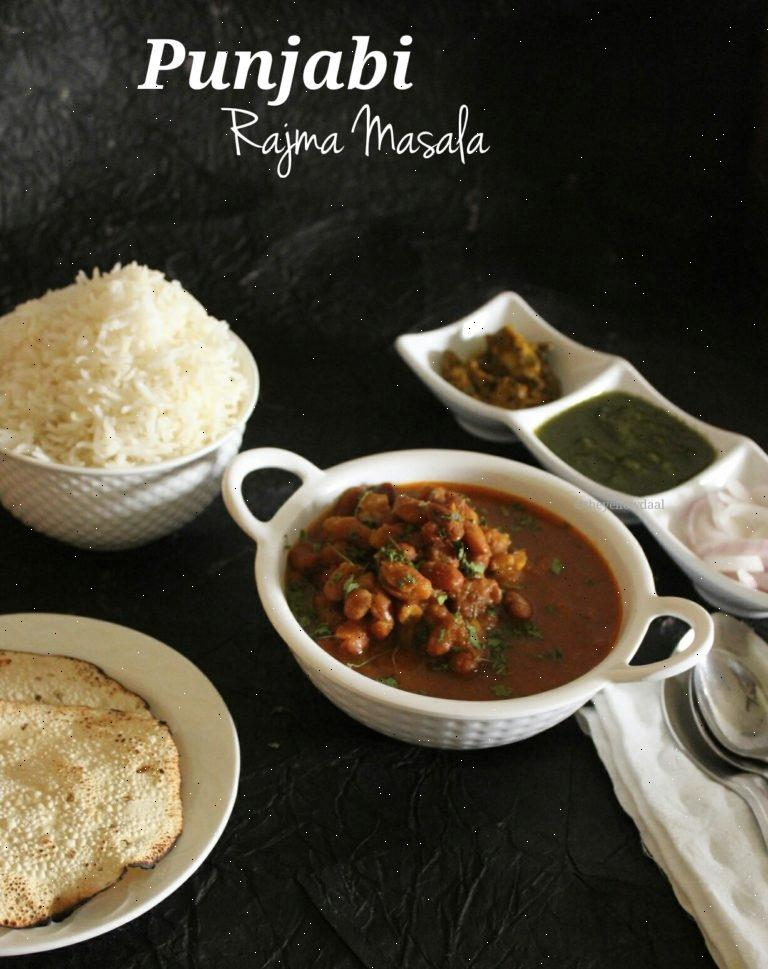rajma: (308, 487, 638, 698)
rice: (0, 258, 258, 482)
